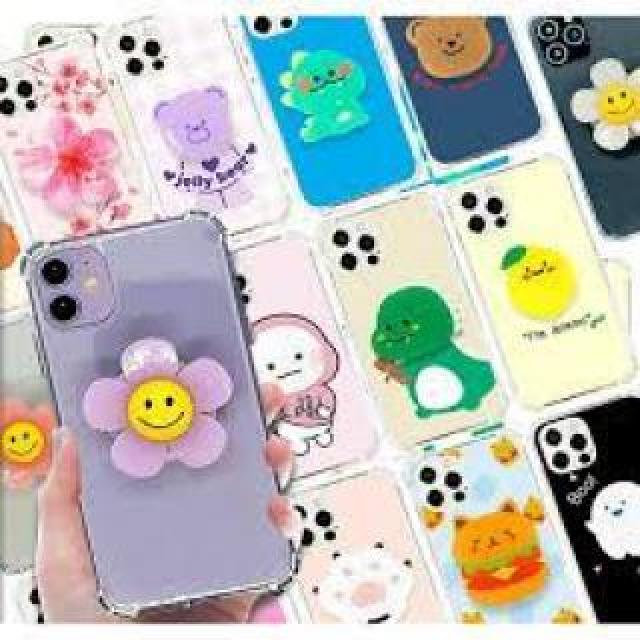smart phone: (16, 240, 312, 563), (448, 153, 640, 417), (250, 0, 395, 212), (426, 426, 550, 640), (306, 446, 392, 640)
